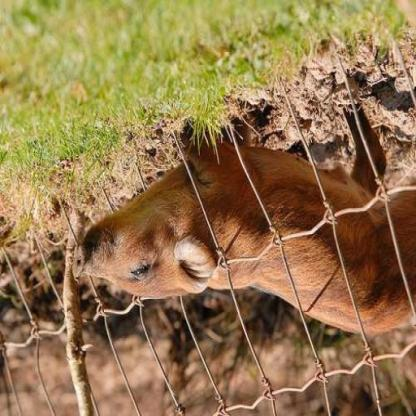boar: (37, 108, 415, 330)
